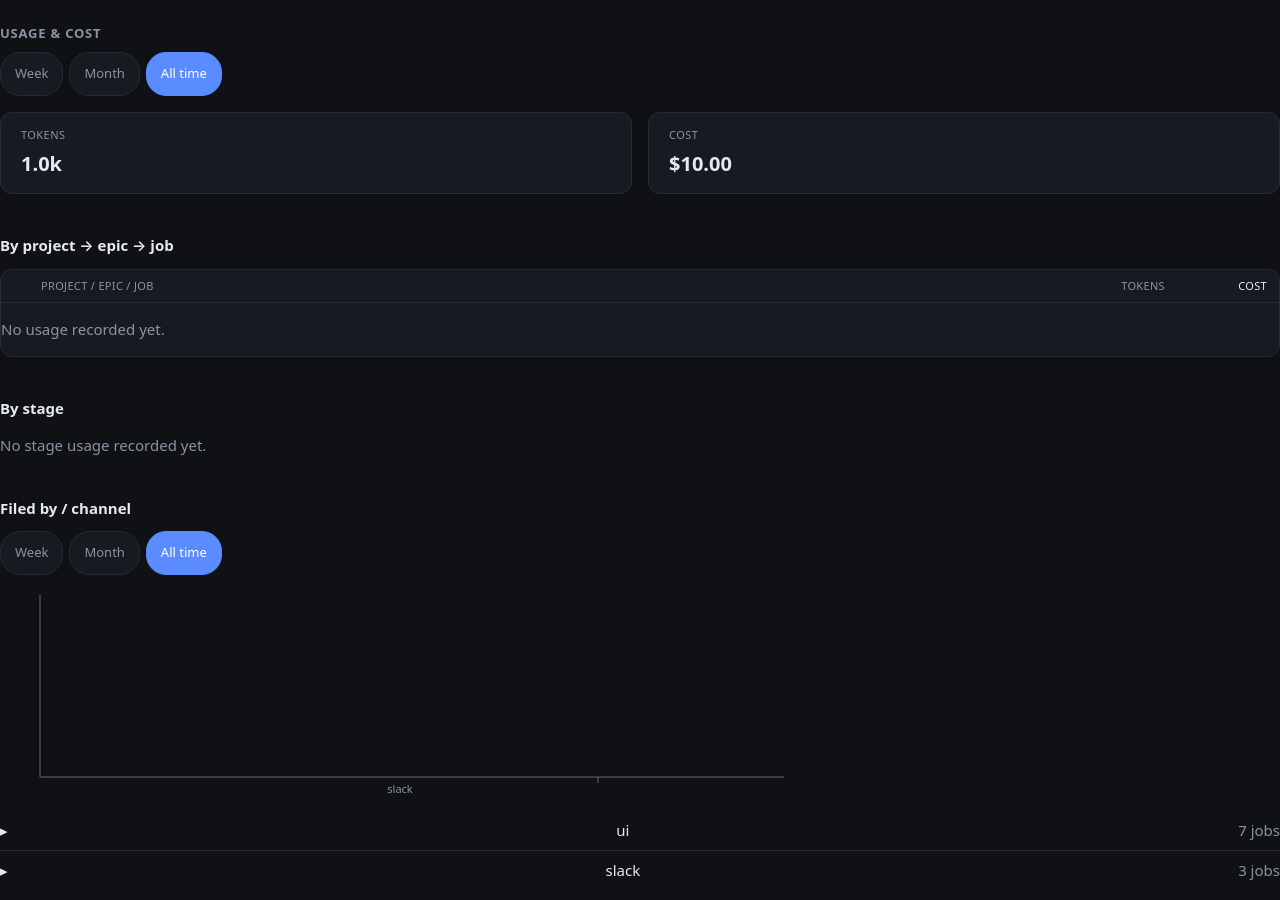
Test: AdminUsageCost › groups filed-by data by source with an expandable per-actor breakdown
expect the text "slack" is shown: met, box [606, 858, 640, 881]
expect the text "7 jobs" is shown: met, box [1238, 819, 1279, 842]
Click the text "ui" at (623, 830), box [616, 819, 629, 842]
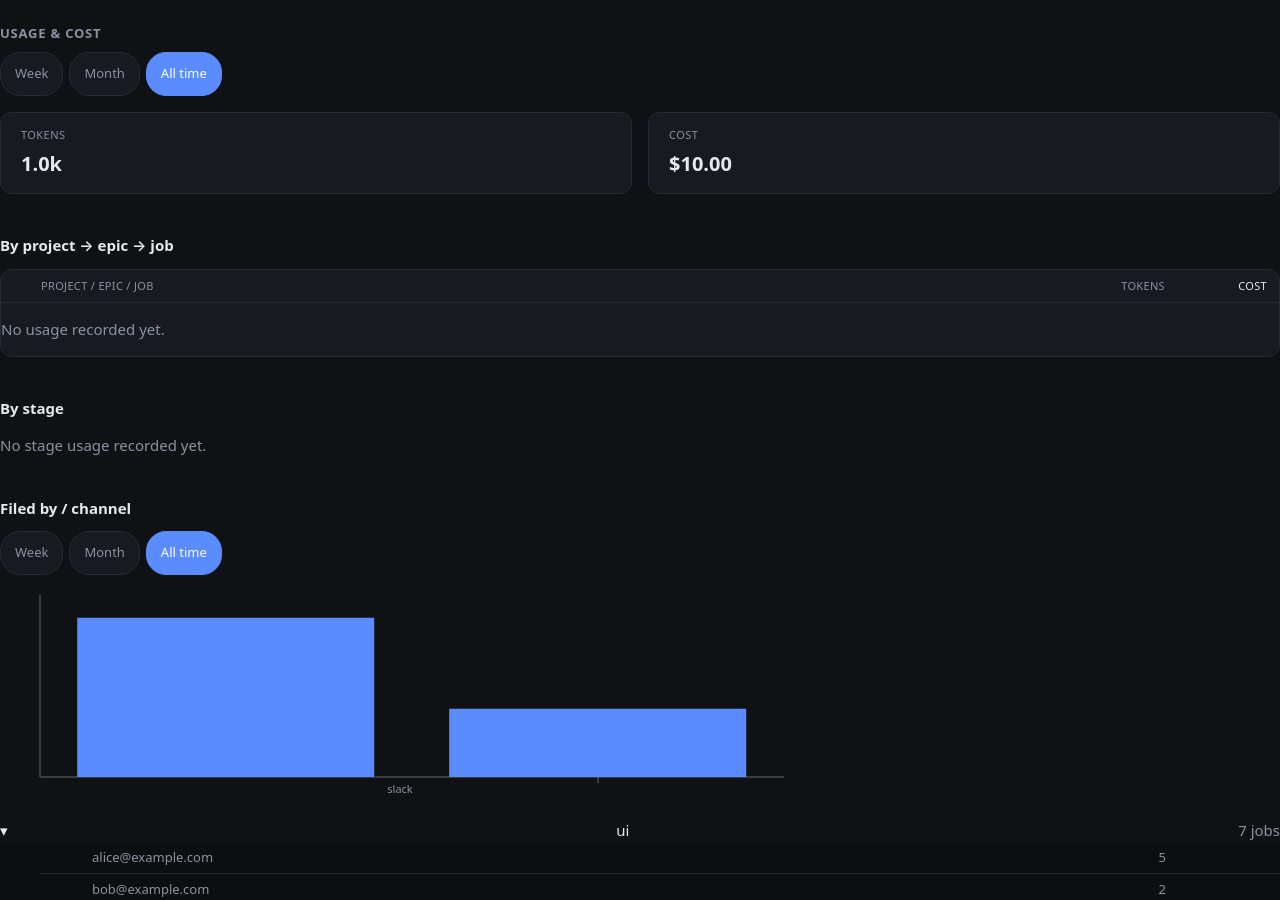
expect the text "alice@example.com" is shown: met, box [92, 848, 213, 866]
expect the text "bob@example.com" is shown: met, box [92, 880, 209, 898]
